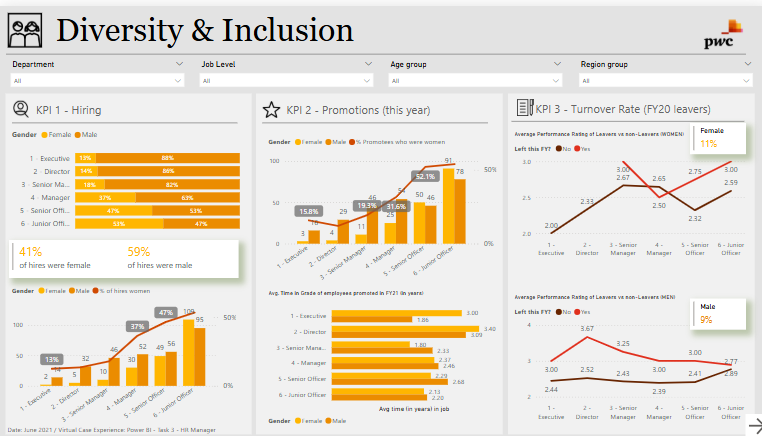

This screenshot's page, from the dashboard's own definition file:
{"tool":"powerbi","page":{"name":"HR Manager (1/2)","canvas":[1280,720],"ordinal":0},"visuals":[{"type":"textbox","box":[88.7,4.8,1172.9,75.2],"z":0},{"type":"basicShape","box":[0,60.8,1253,40.5],"z":1000},{"type":"basicShape","box":[3.9,139.9,418.6,579.7],"z":2000},{"type":"hundredPercentStackedBarChart","fields":{"Series":["HR Manager.Gender"],"Y":["CountNonNull(HR Manager.Employee ID)"],"Category":["HR Manager.Job Level after FY20 promotions"]},"box":[14.5,193.9,389.7,190],"z":3000},{"type":"multiRowCard","fields":{"Values":["HR Manager.% of hires women","HR Manager.% of hires men"]},"box":[14.5,390.7,382.9,63.7],"z":4000},{"type":"lineClusteredColumnComboChart","fields":{"Category":["HR Manager.Job Level after FY20 promotions"],"Series":["HR Manager.Gender"],"Y":["CountNonNull(HR Manager.Employee ID)"],"Y2":["HR Manager.% of hires women"]},"box":[14.5,455.3,382.9,250.8],"z":5000},{"type":"textbox","box":[55,155.3,315.4,35.7],"z":6000},{"type":"basicShape","box":[9.6,175.6,395.5,39.5],"z":7000},{"type":"basicShape","box":[422.5,139.9,419.6,579.7],"z":8000},{"type":"textbox","box":[473,155.7,315.4,35.7],"z":9000},{"type":"basicShape","box":[427.7,175.9,395.5,39.5],"z":10000},{"type":"image","box":[433.1,153.4,39.5,40.5],"z":11000},{"type":"lineClusteredColumnComboChart","fields":{"Y":["CountNonNull(HR Manager.Employee ID)"],"Series":["HR Manager.Gender"],"Y2":["HR Manager.% Promotees who were women"],"Category":["HR Manager.Job Level after FY21 promotions"]},"box":[441.8,207.4,389.7,263.3],"z":12000},{"type":"image","box":[1129,0,151,94.5],"z":13000},{"type":"image","box":[8.7,0,67.5,81],"z":14000},{"type":"image","box":[15.4,153.4,39.5,38.6],"z":15000},{"type":"basicShape","box":[842.1,139.9,419.6,579.7],"z":16000},{"type":"basicShape","box":[843.4,173,408,39.5],"z":17000},{"type":"textbox","box":[888.5,152.5,315.4,35.7],"z":18000},{"type":"clusteredBarChart","title":"Avg. Time in Grade of employees promoted in FY21 (in years)","fields":{"Category":["HR Manager.Job Level after FY20 promotions"],"Series":["HR Manager.Gender"],"Y":["Avg(HR Manager.Time in Job Level @01.07.2020)"]},"box":[441.8,473.6,389.7,236.3],"z":19000},{"type":"lineChart","title":"Average Performance Rating of Leavers vs non-Leavers (WOMEN)","fields":{"Category":["HR Manager.Job Level after FY20 promotions"],"Y":["Avg(HR Manager.FY19 Performance Rating)"],"Series":["HR Manager.FY20 leaver?"]},"box":[852.7,207.4,398.4,218],"z":20000},{"type":"lineChart","title":"Average Performance Rating of Leavers vs non-Leavers (MEN)","fields":{"Category":["HR Manager.Job Level after FY20 promotions"],"Y":["Avg(HR Manager.FY19 Performance Rating)"],"Series":["HR Manager.FY20 leaver?"]},"box":[852.7,479.4,398.4,218],"z":21000},{"type":"multiRowCard","fields":{"Values":["HR Manager.Gender","HR Manager.% Turnover"]},"box":[1148.8,195.8,93.6,52.1],"z":22000},{"type":"multiRowCard","fields":{"Values":["HR Manager.Gender","HR Manager.% Turnover"]},"box":[1148.8,487.1,93.6,52.1],"z":23000},{"type":"slicer","fields":{"Values":["HR Manager.Last Department in FY20"]},"box":[6.8,83.9,310,55.9],"z":24000},{"type":"slicer","fields":{"Values":["HR Manager.Job Level after FY20 promotions"]},"box":[322.5,83.9,310,55.9],"z":25000},{"type":"slicer","fields":{"Values":["HR Manager.Age group"]},"box":[638.2,83.9,310,55.9],"z":26000},{"type":"slicer","fields":{"Values":["HR Manager.Broad region group: nationality 1"]},"box":[954,83.9,310,55.9],"z":27000},{"type":"image","box":[852.7,149.5,47.3,38.6],"z":28000},{"type":"actionButton","box":[1243.1,679.1,36.9,40.2],"z":29000},{"type":"textbox","box":[7.7,689.7,397.4,29.9],"z":30000}]}

Visuals, with their boxes in screenshot pixels (x1, y1, x2, y2), scaled from the page's 1280x720 canvas onto the 762x436 screenshot:
textbox: {"left": 53, "top": 3, "right": 751, "bottom": 48}
basicShape: {"left": 0, "top": 37, "right": 746, "bottom": 61}
basicShape: {"left": 2, "top": 85, "right": 252, "bottom": 435}
hundredPercentStackedBarChart - HR Manager.Gender x CountNonNull(HR Manager.Employee ID): {"left": 9, "top": 117, "right": 241, "bottom": 232}
multiRowCard - HR Manager.% of hires women x HR Manager.% of hires men: {"left": 9, "top": 237, "right": 237, "bottom": 275}
lineClusteredColumnComboChart - HR Manager.Job Level after FY20 promotions x HR Manager.Gender: {"left": 9, "top": 276, "right": 237, "bottom": 428}
textbox: {"left": 33, "top": 94, "right": 221, "bottom": 116}
basicShape: {"left": 6, "top": 106, "right": 241, "bottom": 130}
basicShape: {"left": 252, "top": 85, "right": 501, "bottom": 435}
textbox: {"left": 282, "top": 94, "right": 469, "bottom": 116}
basicShape: {"left": 255, "top": 107, "right": 490, "bottom": 130}
image: {"left": 258, "top": 93, "right": 281, "bottom": 117}
lineClusteredColumnComboChart - CountNonNull(HR Manager.Employee ID) x HR Manager.Gender: {"left": 263, "top": 126, "right": 495, "bottom": 285}
image: {"left": 672, "top": 0, "right": 761, "bottom": 57}
image: {"left": 5, "top": 0, "right": 45, "bottom": 49}
image: {"left": 9, "top": 93, "right": 33, "bottom": 116}
basicShape: {"left": 501, "top": 85, "right": 751, "bottom": 435}
basicShape: {"left": 502, "top": 105, "right": 745, "bottom": 129}
textbox: {"left": 529, "top": 92, "right": 717, "bottom": 114}
"Avg. Time in Grade of employees promoted in FY21 (in years)" clusteredBarChart: {"left": 263, "top": 287, "right": 495, "bottom": 430}
"Average Performance Rating of Leavers vs non-Leavers (WOMEN)" lineChart: {"left": 508, "top": 126, "right": 745, "bottom": 258}
"Average Performance Rating of Leavers vs non-Leavers (MEN)" lineChart: {"left": 508, "top": 290, "right": 745, "bottom": 422}
multiRowCard - HR Manager.Gender x HR Manager.% Turnover: {"left": 684, "top": 119, "right": 740, "bottom": 150}
multiRowCard - HR Manager.Gender x HR Manager.% Turnover: {"left": 684, "top": 295, "right": 740, "bottom": 327}
slicer - HR Manager.Last Department in FY20: {"left": 4, "top": 51, "right": 189, "bottom": 85}
slicer - HR Manager.Job Level after FY20 promotions: {"left": 192, "top": 51, "right": 377, "bottom": 85}
slicer - HR Manager.Age group: {"left": 380, "top": 51, "right": 564, "bottom": 85}
slicer - HR Manager.Broad region group: nationality 1: {"left": 568, "top": 51, "right": 752, "bottom": 85}
image: {"left": 508, "top": 91, "right": 536, "bottom": 114}
actionButton: {"left": 740, "top": 411, "right": 761, "bottom": 435}
textbox: {"left": 5, "top": 418, "right": 241, "bottom": 435}
